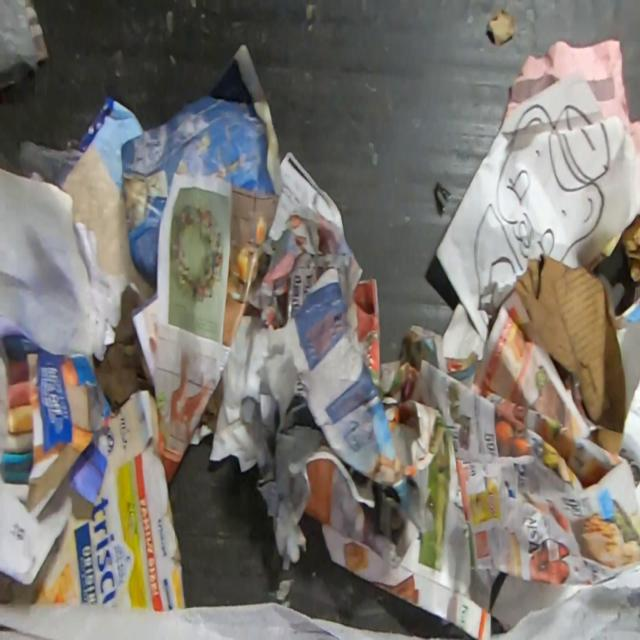cardboard: (0, 388, 187, 612), (0, 309, 114, 587), (513, 252, 628, 458)
soft_plastic: (19, 140, 84, 188)
